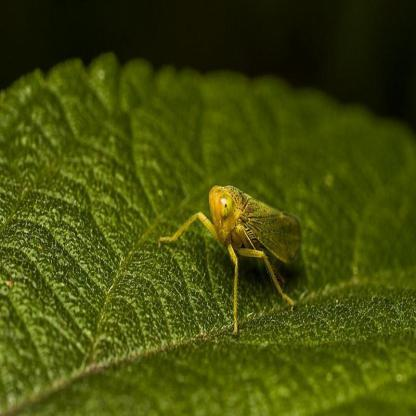green-leafhopper: (160, 182, 306, 326)
